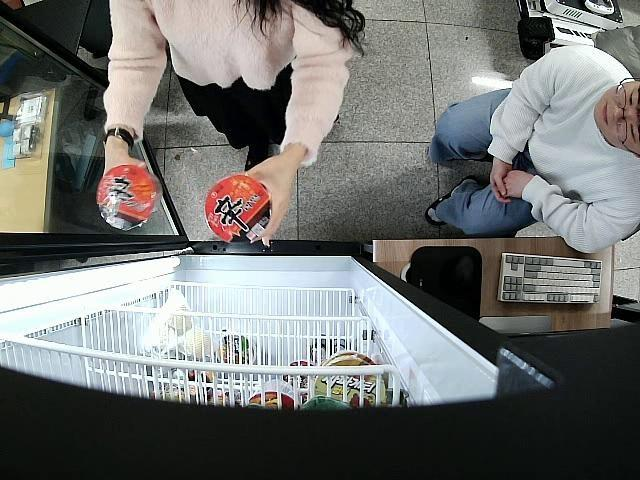02_shinRamen_S: (204, 176, 270, 245), (98, 164, 163, 231)
